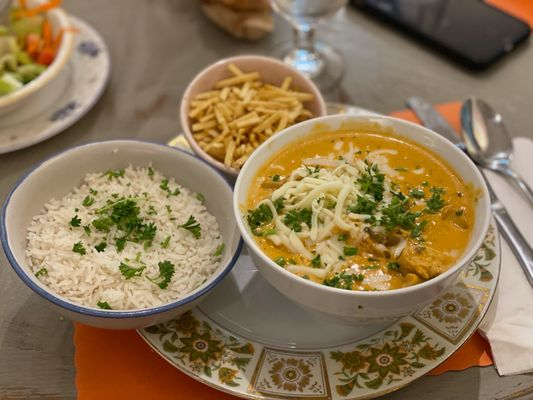curry: (248, 200, 277, 236)
salad: (405, 96, 533, 288), (404, 96, 533, 219), (460, 97, 533, 213)
sushi: (233, 112, 492, 323), (1, 139, 244, 330), (180, 56, 327, 184), (0, 1, 112, 154), (0, 0, 76, 119)
